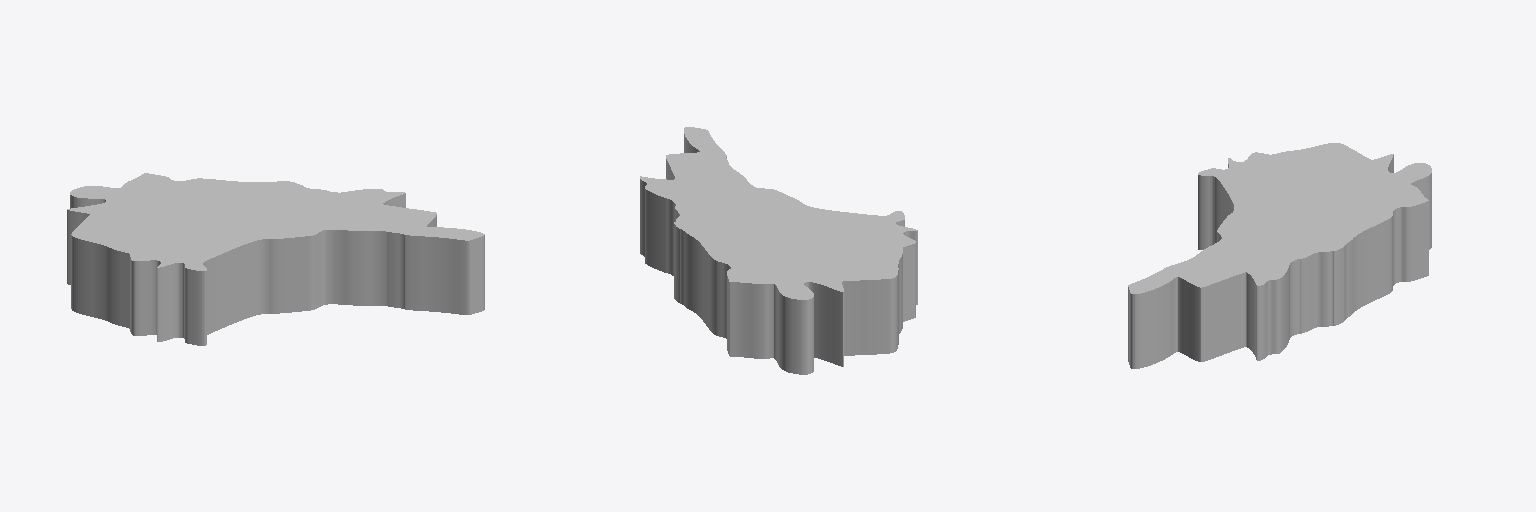
Rendered from Asia_11.obj.
3 views of the same model, side by side, from view 1: azimuth 30°, elevation 25°; view 2: azimuth 150°, elevation 25°; view 3: azimuth 270°, elevation 25° (orthographic).
Visible parts, largest first — view 1: Asia_11_path4254; view 2: Asia_11_path4254; view 3: Asia_11_path4254.
Part boxes in pixels (x1,y1,x2,y2): Asia_11_path4254: (67, 173, 484, 345); Asia_11_path4254: (640, 127, 917, 374); Asia_11_path4254: (1128, 143, 1431, 368).
Size of the model in its own units: 0.4351 by 0.1 by 0.3687.